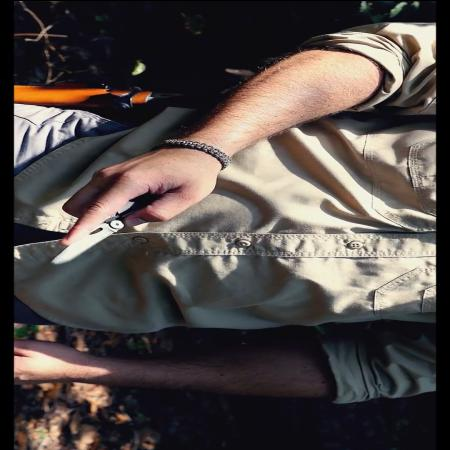long weapon: (42, 160, 159, 268)
